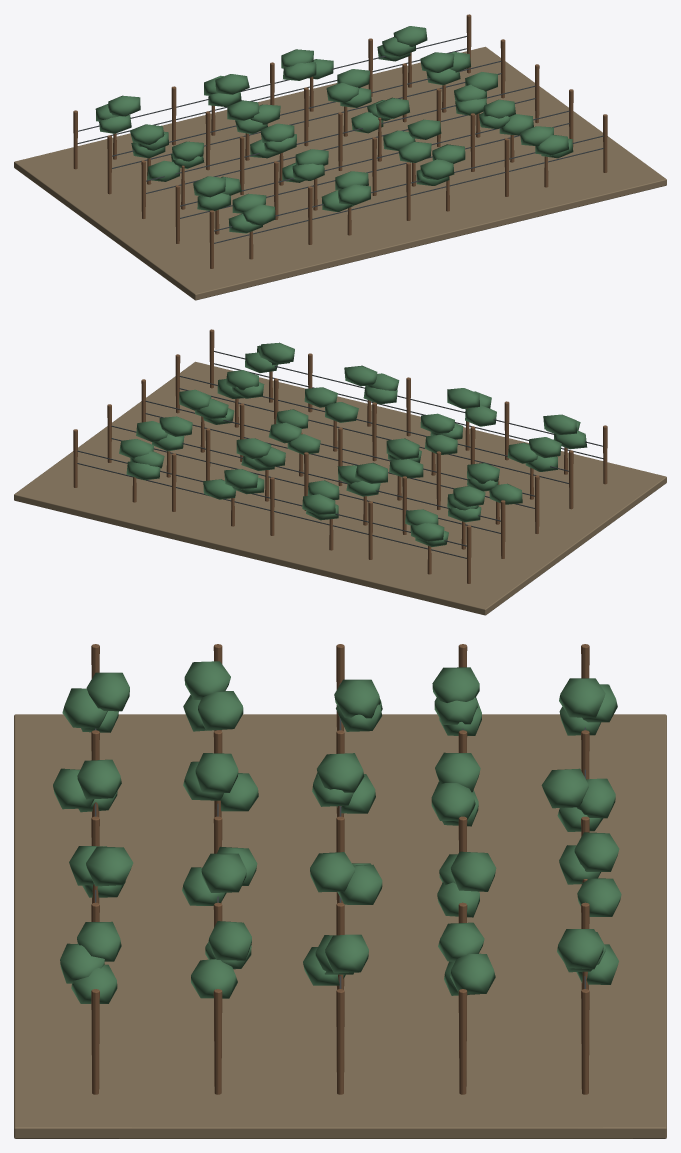
Rendered from Prop_Vineyard_Rows_01_Detailed.fbx.
3 views of the same model, one above another, from view 1: azimuth 30°, elevation 25°; view 2: azimuth 150°, elevation 25°; view 3: azimuth 270°, elevation 25° (orthographic). The views are drawn at different scales.
Visible parts, largest first — view 1: Vineyard_Terrace, Vineyard_Wire_0_0.75, Vineyard_Leaf_4_-1.5_2, Vineyard_Leaf_3_3.5_2, Vineyard_Leaf_1_1_0, Vineyard_Leaf_1_-4_2, Vineyard_Leaf_2_1_2, Vineyard_Leaf_0_-1.5_1, Vineyard_Leaf_4_-4_2, Vineyard_Leaf_1_1_2, Vineyard_Leaf_2_-4_0, Vineyard_Leaf_0_1_1 (+30 smaller); view 2: Vineyard_Terrace, Vineyard_Wire_4_0.75, Vineyard_Leaf_0_3.5_2, Vineyard_Leaf_2_-1.5_2, Vineyard_Leaf_4_-1.5_1, Vineyard_Leaf_4_1_2, Vineyard_Leaf_0_-1.5_2, Vineyard_Leaf_0_-4_2, Vineyard_Leaf_3_1_2, Vineyard_Leaf_3_-1.5_2, Vineyard_Leaf_2_-1.5_0, Vineyard_Leaf_1_-1.5_2 (+32 smaller); view 3: Vineyard_Terrace, Vineyard_Leaf_4_3.5_2, Vineyard_Leaf_1_1_2, Vineyard_Leaf_3_1_2, Vineyard_Leaf_0_1_2, Vineyard_Leaf_4_-4_2, Vineyard_Leaf_4_-1.5_2, Vineyard_Leaf_1_-4_1, Vineyard_Leaf_2_-1.5_2, Vineyard_Leaf_1_-1.5_2, Vineyard_Leaf_2_1_2, Vineyard_Leaf_2_-4_2 (+35 smaller).
Part boxes in pixels (x1,y1,x2,y2): Vineyard_Terrace: (14,46,666,300); Vineyard_Wire_0_0.75: (214,148,603,243); Vineyard_Leaf_4_-1.5_2: (215,74,249,94); Vineyard_Leaf_3_3.5_2: (420,52,454,72); Vineyard_Leaf_1_1_0: (398,141,431,162); Vineyard_Leaf_1_-4_2: (193,176,225,197); Vineyard_Leaf_2_1_2: (376,97,409,118); Vineyard_Leaf_0_-1.5_1: (338,184,370,205); Vineyard_Leaf_4_-4_2: (108,95,140,116); Vineyard_Leaf_1_1_2: (407,119,441,139); Vineyard_Leaf_2_-4_0: (147,160,180,181); Vineyard_Leaf_0_1_1: (420,159,454,179); Vineyard_Terrace: (14,361,666,615); Vineyard_Wire_4_0.75: (77,463,466,558); Vineyard_Leaf_0_3.5_2: (260,342,294,363); Vineyard_Leaf_2_-1.5_2: (386,438,419,459); Vineyard_Leaf_4_-1.5_1: (302,494,335,514); Vineyard_Leaf_4_1_2: (224,469,258,489); Vineyard_Leaf_0_-1.5_2: (447,388,479,408); Vineyard_Leaf_0_-4_2: (543,414,576,434); Vineyard_Leaf_3_1_2: (236,438,271,459); Vineyard_Leaf_3_-1.5_2: (354,462,387,483); Vineyard_Leaf_2_-1.5_0: (389,459,423,478); Vineyard_Leaf_1_-1.5_2: (420,413,454,433); Vineyard_Terrace: (14,714,666,1138); Vineyard_Leaf_4_3.5_2: (557,929,603,969); Vineyard_Leaf_1_1_2: (201,853,246,892); Vineyard_Leaf_3_1_2: (451,851,496,891); Vineyard_Leaf_0_1_2: (86,846,133,886); Vineyard_Leaf_4_-4_2: (559,678,605,717); Vineyard_Leaf_4_-1.5_2: (541,768,588,808); Vineyard_Leaf_1_-4_1: (198,691,243,730); Vineyard_Leaf_2_-1.5_2: (317,753,364,792); Vineyard_Leaf_1_-1.5_2: (195,753,238,792); Vineyard_Leaf_2_1_2: (310,852,354,892); Vineyard_Leaf_2_-4_2: (334,679,380,718).
Size of the model in its own units: 1200 by 167 by 800.
